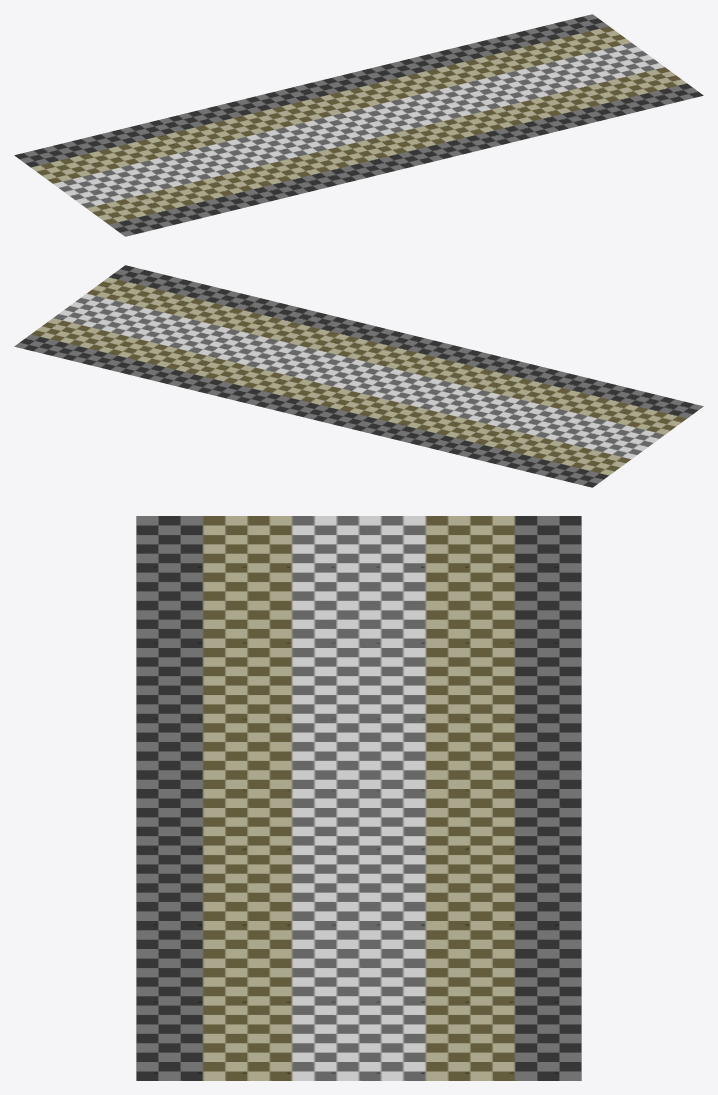
File: ground_01.fbx
3 renders of one model, top to bottom at view 1: azimuth 30°, elevation 25°; view 2: azimuth 150°, elevation 25°; view 3: azimuth 270°, elevation 25°, orthographic. The views are drawn at different scales.
Parts seen in each view (by area): view 1: Plane.001; view 2: Plane.001; view 3: Plane.001.
Boxes of the visible parts, x1,y1,x2,y2 form: Plane.001: [14, 14, 703, 236]; Plane.001: [14, 265, 703, 487]; Plane.001: [136, 516, 581, 1080].
Size of the model in its own units: 6000 by 0.000326 by 2000.
